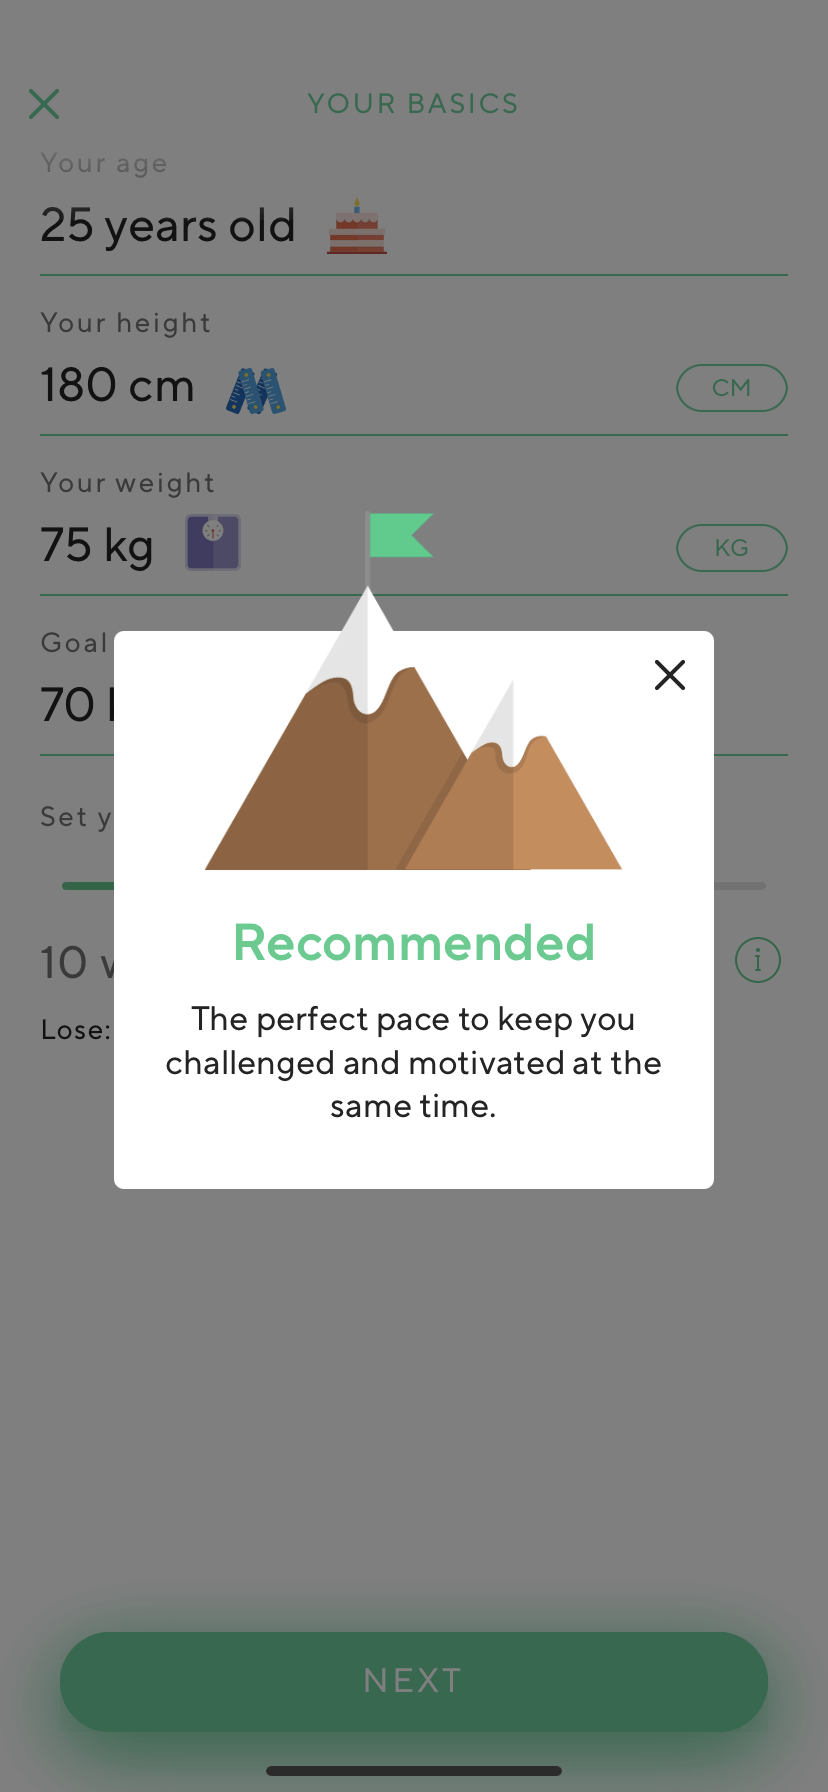Buttons: (50, 1619, 781, 1754), (724, 917, 790, 992), (9, 64, 75, 134), (632, 643, 700, 711)
